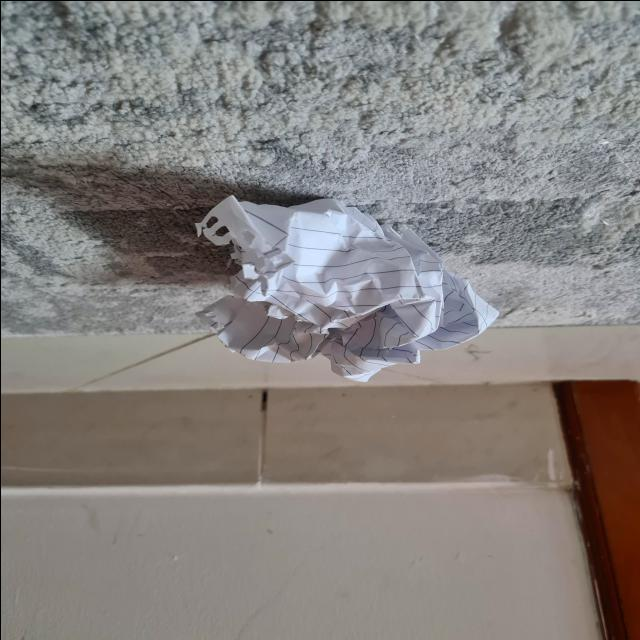Paper: (186, 203, 482, 374)
